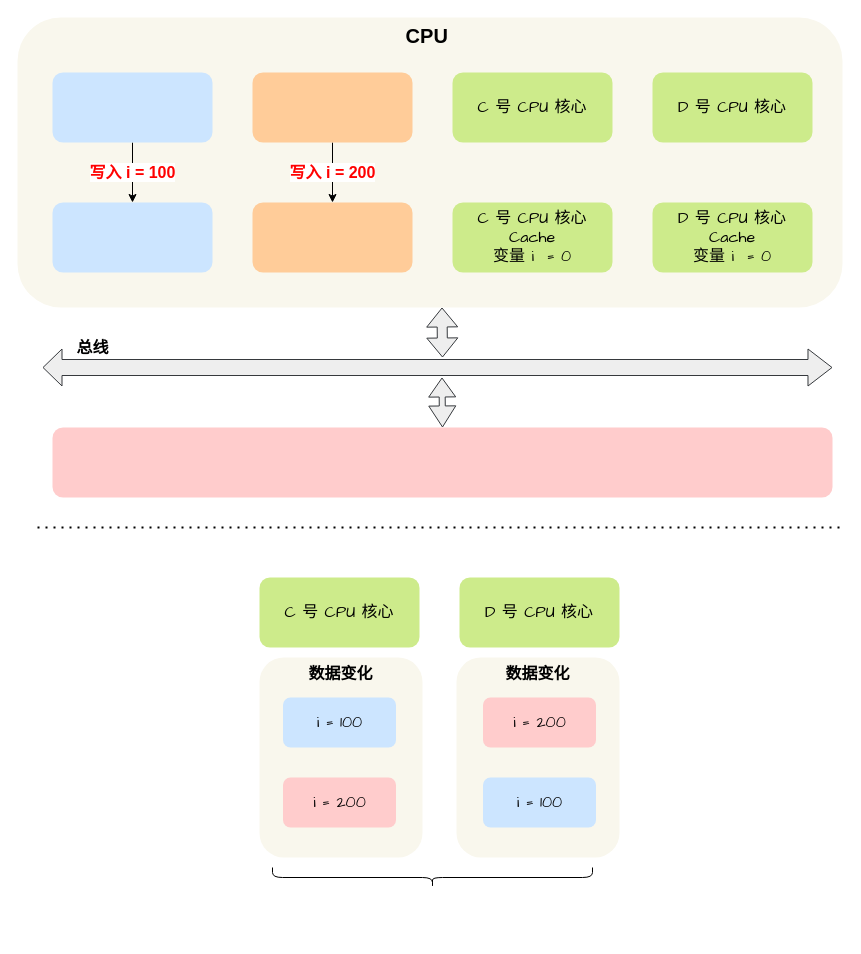
This 861x954 diagram has some shape labels left out. Each missing label, with the centre of its shape:
A 号 CPU 核心: the point at 132,107
A 号 CPU 核心 Cache 变量 i = 0: the point at 132,237
B 号 CPU 核心: the point at 332,107
B 号 CPU 核心 Cache 变量 i = 0: the point at 332,237
C 和 D 号 CPU 核心看到的 数据状态变化顺序不一致: the point at 432,877
内存 变量 i = 0: the point at 442,462
